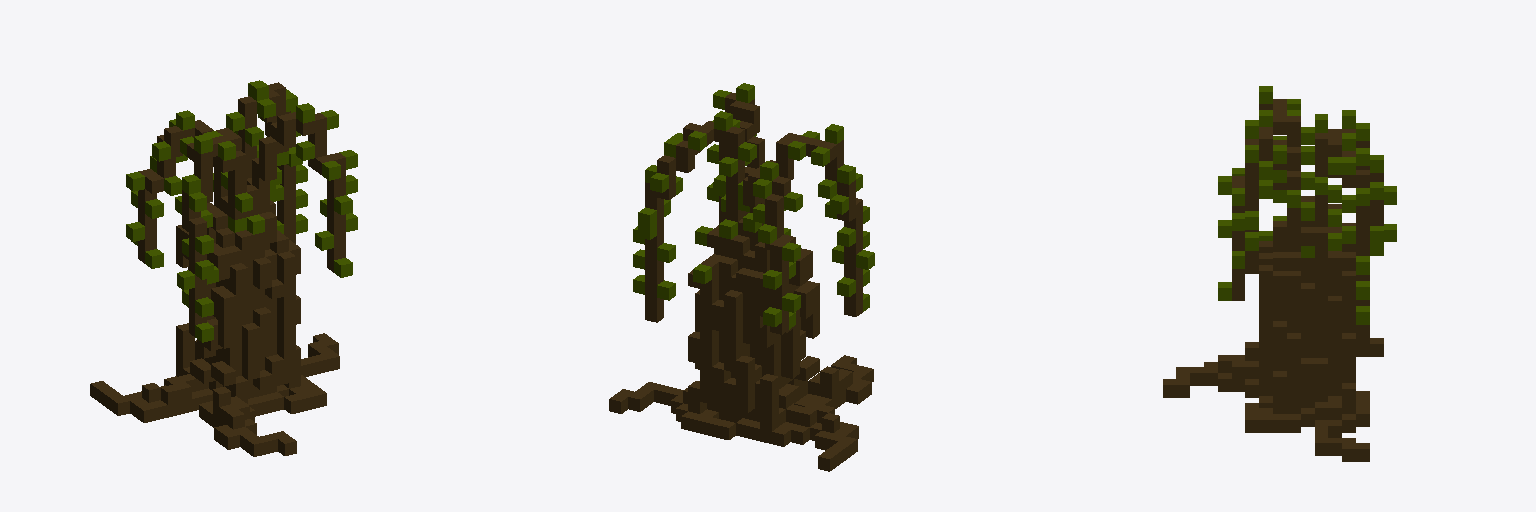
The picture shows the model from 3 angles: view 1: azimuth 30°, elevation 25°; view 2: azimuth 150°, elevation 25°; view 3: azimuth 270°, elevation 25°; orthographic projection.
Visible parts, largest first — view 1: swampTree; view 2: swampTree; view 3: swampTree.
Part boxes in pixels (bbox=[...]): swampTree: bbox=[90, 80, 357, 456]; swampTree: bbox=[609, 83, 874, 471]; swampTree: bbox=[1163, 86, 1396, 461].
Size of the model in its own units: 19 by 24 by 17.
Materials: 1 (1 with a texture image).